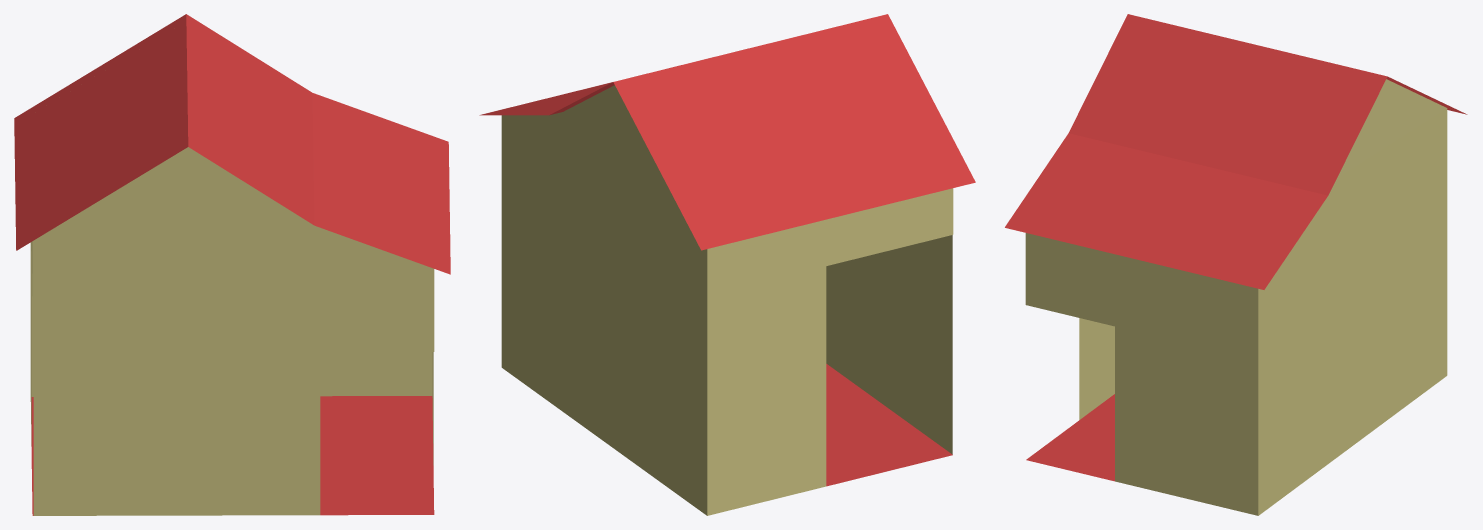
The picture shows the model from 3 angles, left to right: view 1: azimuth 30°, elevation 25°; view 2: azimuth 150°, elevation 25°; view 3: azimuth 270°, elevation 25°; orthographic projection. The views are drawn at different scales.
Bounding box in the file's own units: 16.23 × 14.86 × 12.61.
